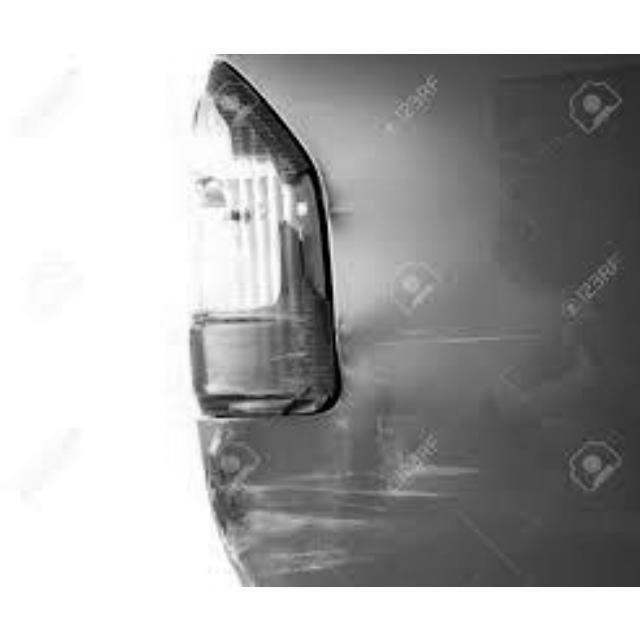Taillight-Damage: (157, 54, 352, 441)
rear-bumper-dent: (138, 365, 640, 583)
